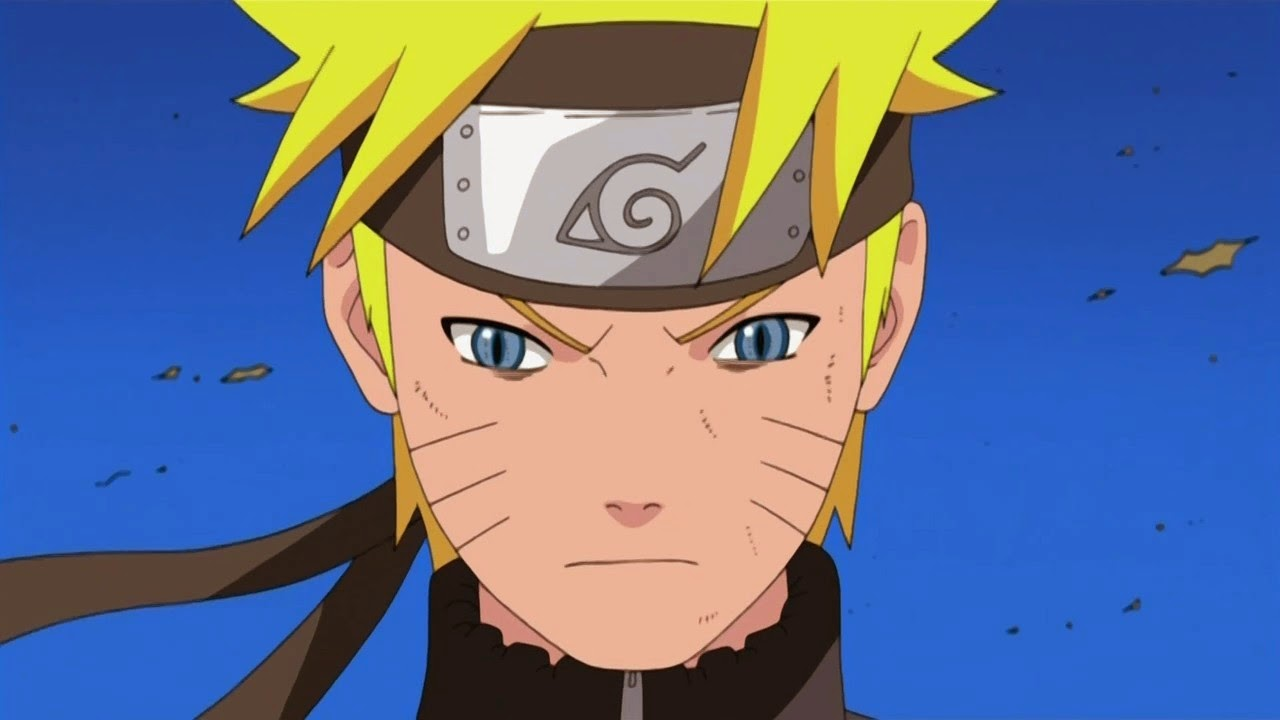naruto: (296, 10, 941, 688)
